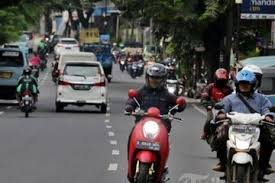motor: (121, 109, 173, 177), (222, 112, 267, 183)
